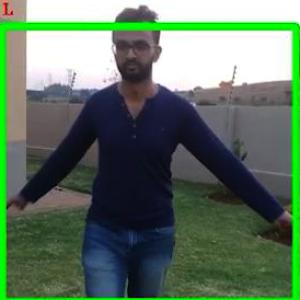land: (0, 20, 300, 299)
